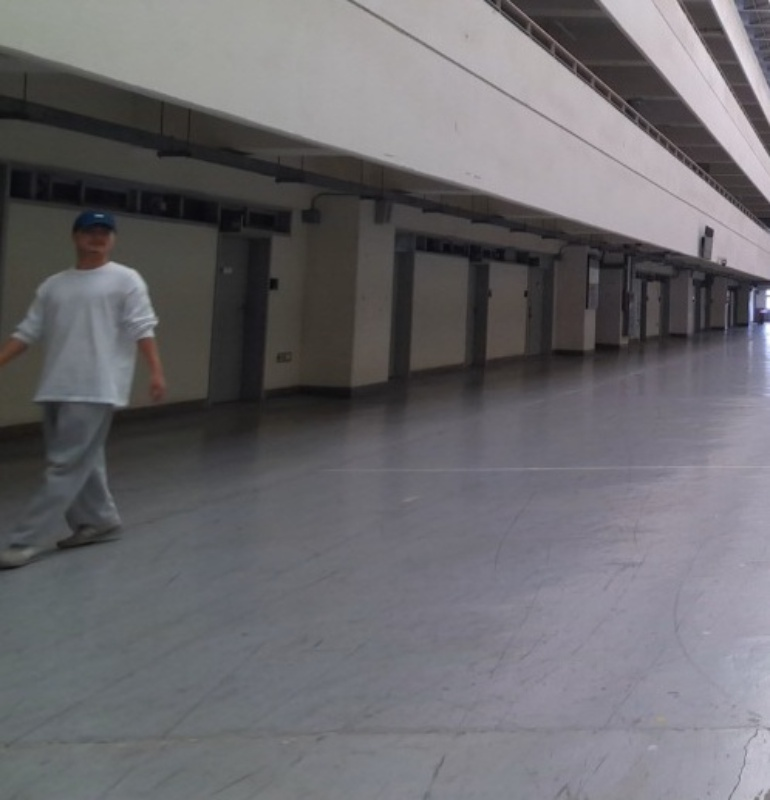person: (0, 208, 170, 570)
